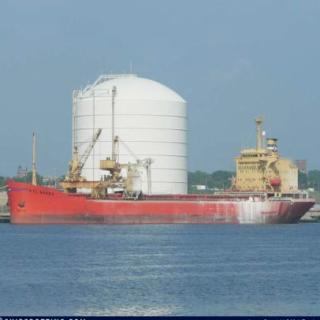Bulk Carrier: (2, 102, 313, 220)
